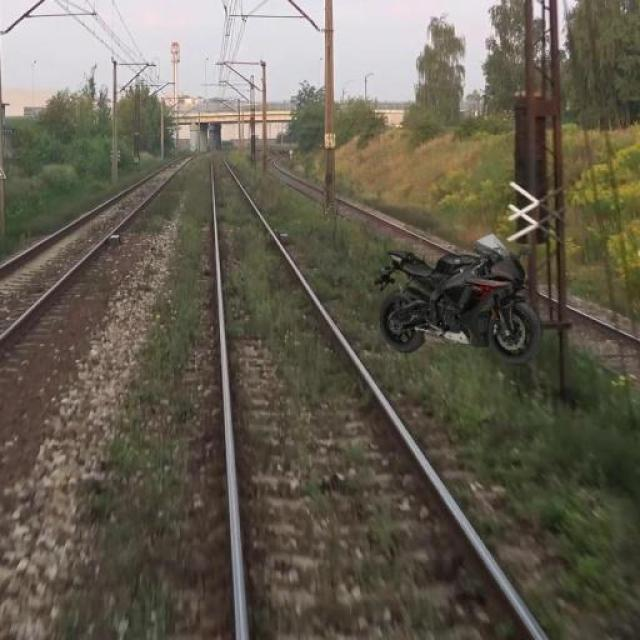vehicle: (375, 225, 542, 360)
